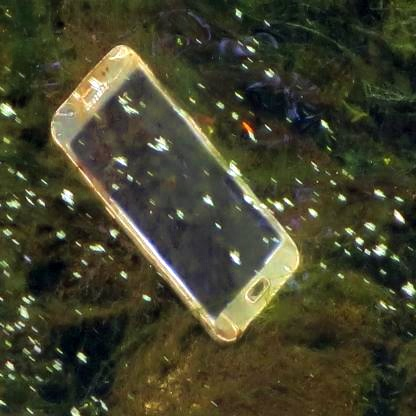cellphone: (49, 44, 301, 349)
